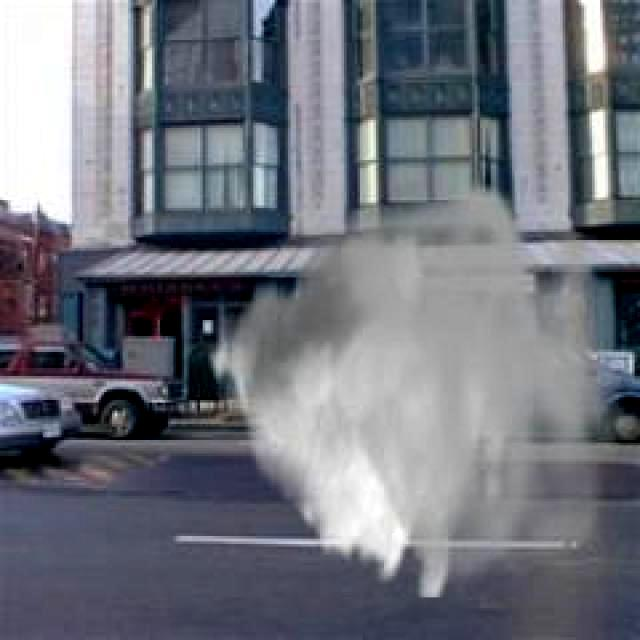Smoke: (205, 175, 627, 598)
